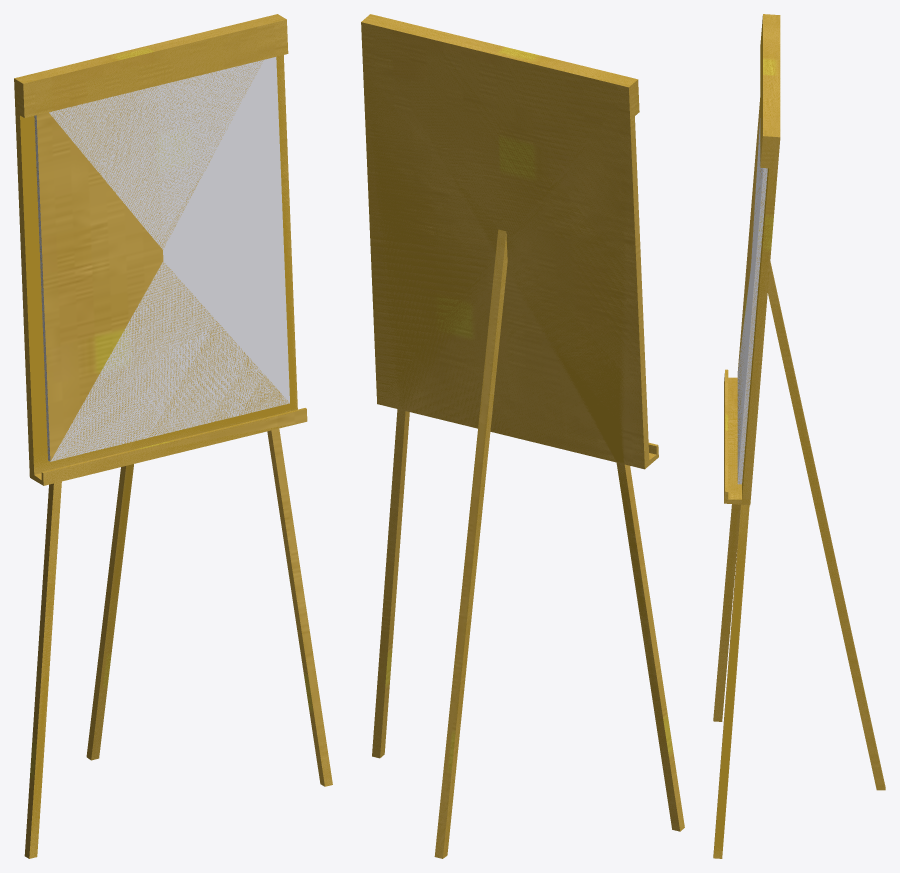
Rendered from FlipChart.fbx.
3 views of the same model, side by side, from view 1: azimuth 30°, elevation 25°; view 2: azimuth 150°, elevation 25°; view 3: azimuth 270°, elevation 25° (orthographic). The views are drawn at different scales.
Parts seen in each view (by area): view 1: Model; view 2: Model; view 3: Model.
Part boxes in pixels (<box>): Model: <box>14,14,332,858</box>; Model: <box>361,14,684,858</box>; Model: <box>713,14,885,858</box>.
Bounding box in the file's own units: 0.76 × 1.8 × 0.3929.
